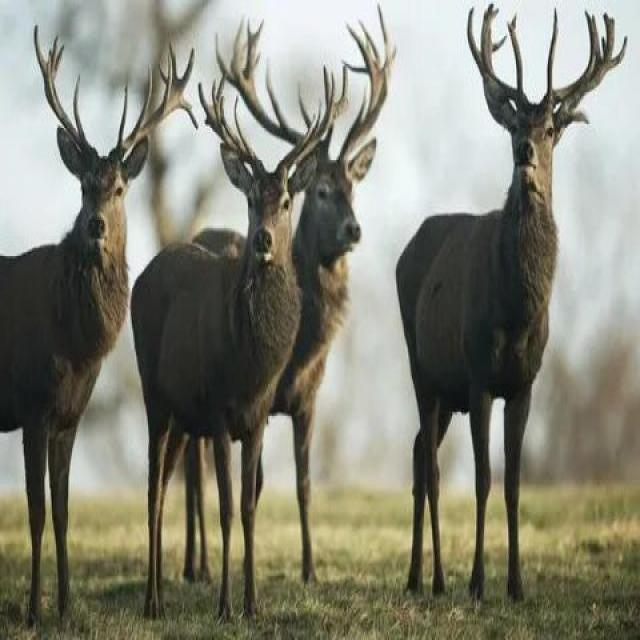deer: (398, 25, 613, 556), (124, 111, 350, 529), (18, 128, 165, 507)
